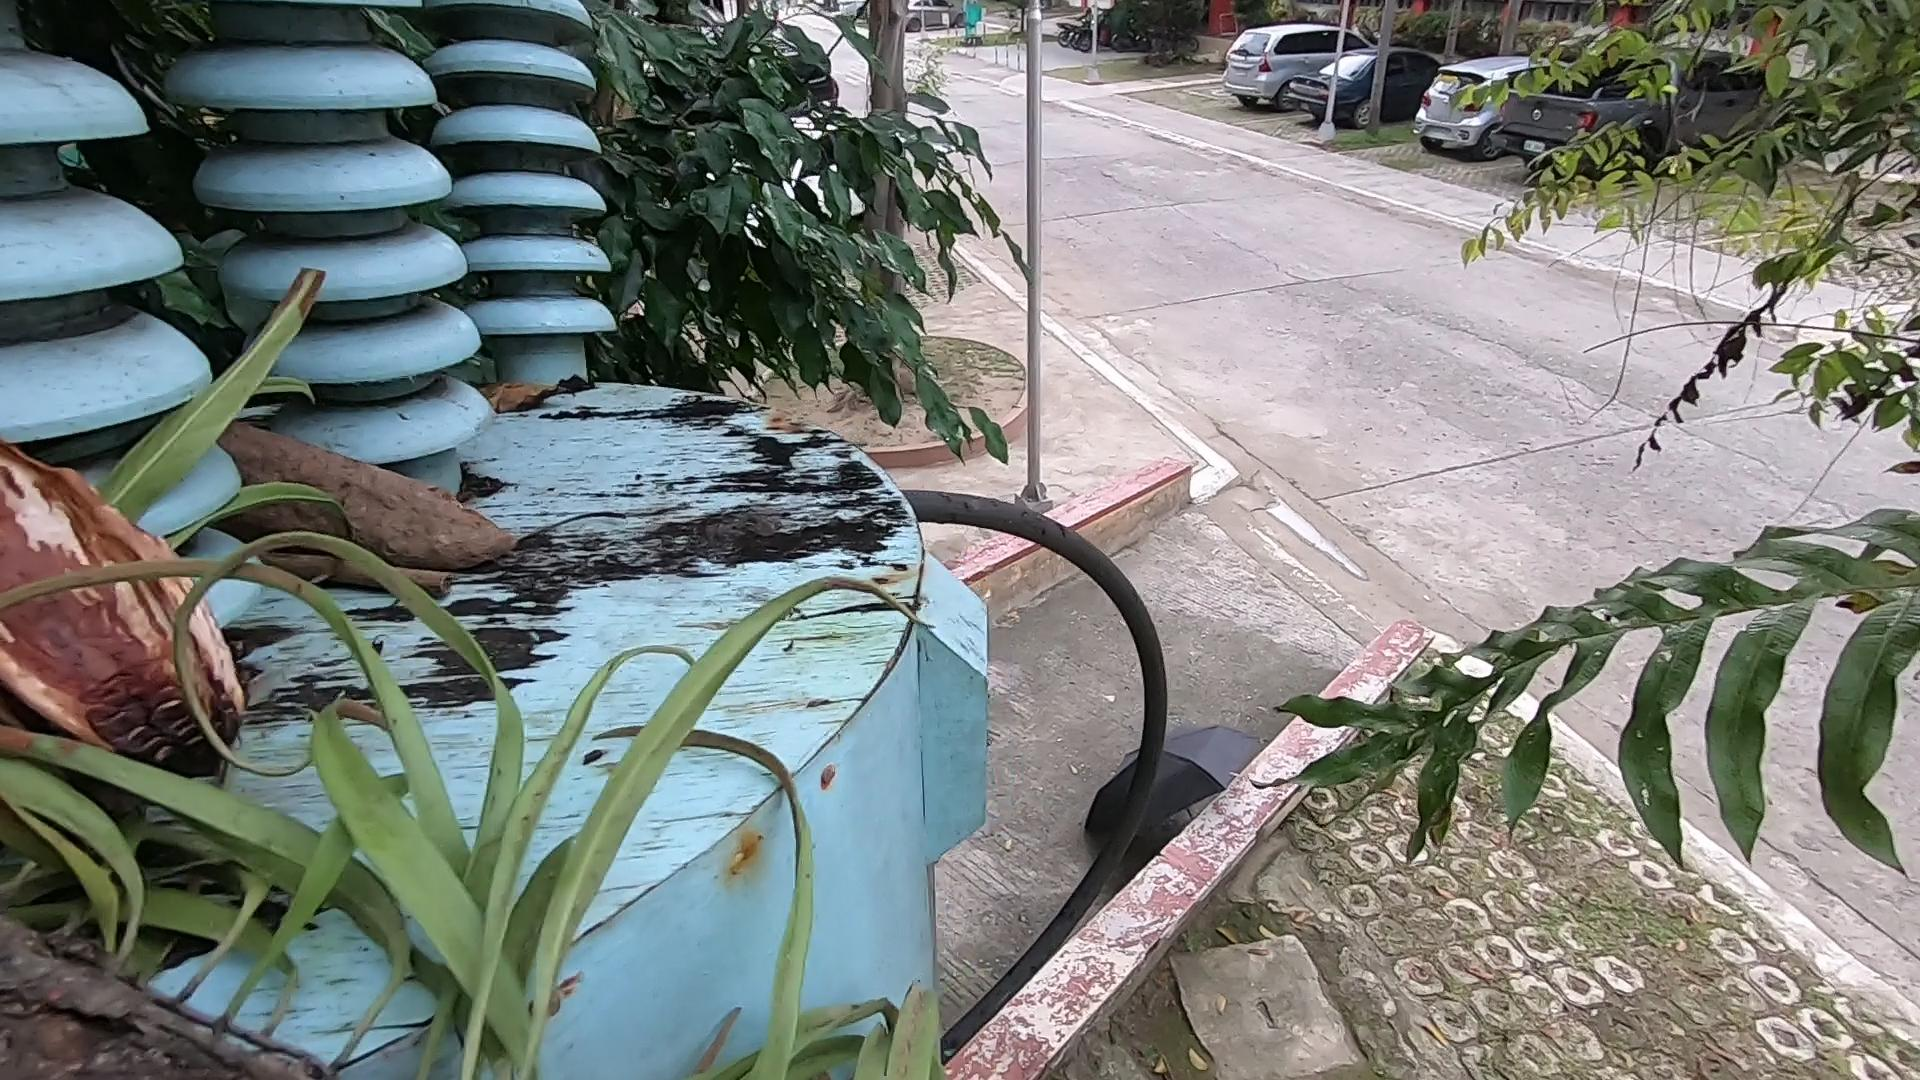branch with leaves: (4, 698, 1127, 1073)
leaf: (485, 376, 578, 407)
mahogany fruit: (33, 440, 270, 771), (191, 405, 553, 551)
tree branch: (218, 531, 485, 617)
